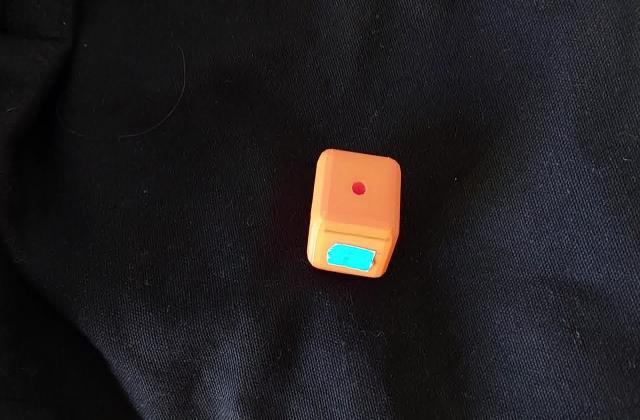blue: (344, 252, 364, 262)
cube: (300, 144, 404, 282)
